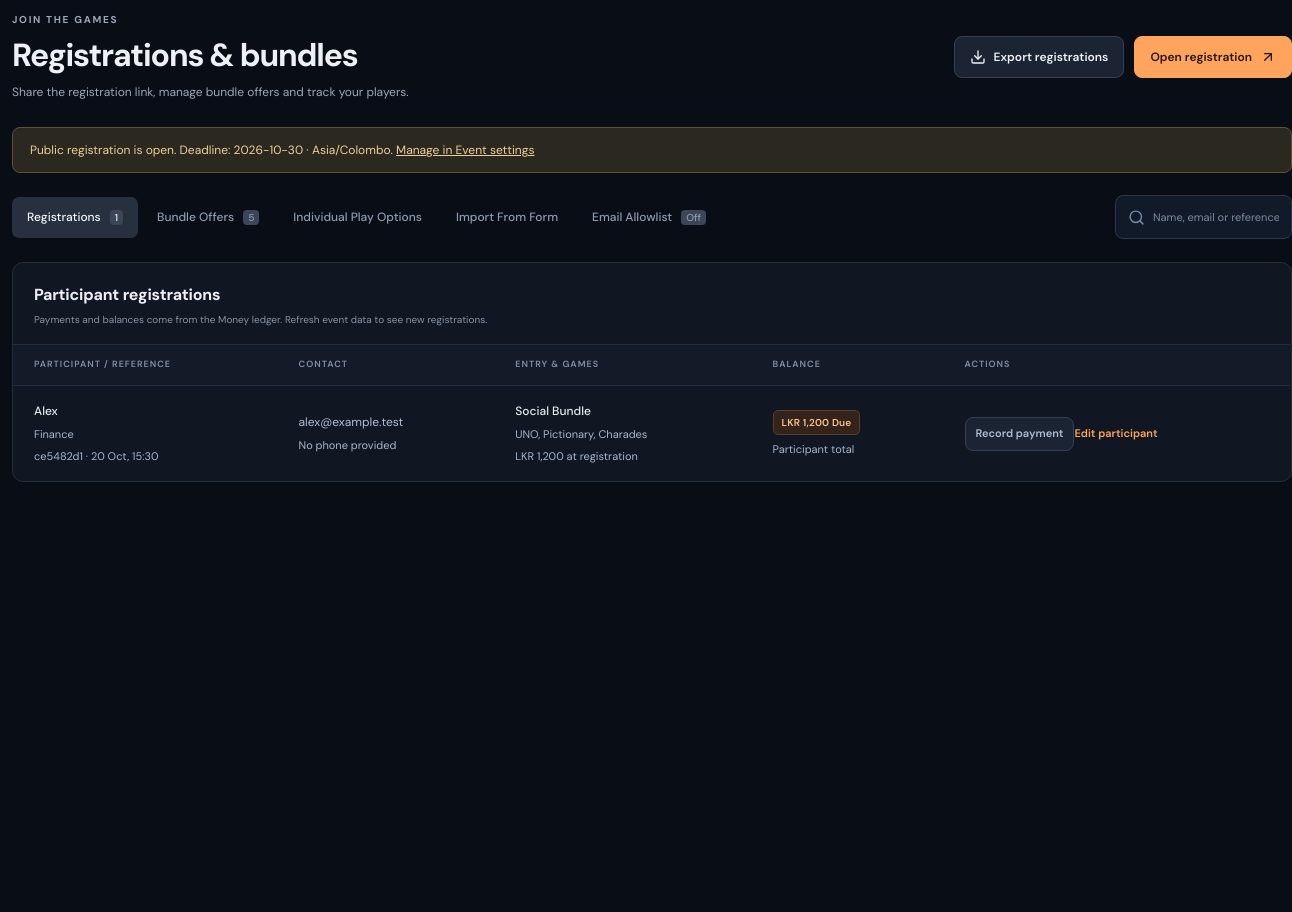
Test: shows organiser registration details, balances and controls
Check: the text "alex@example.test" is shown, box x1=299 y1=414 x2=403 y2=430
Check: the button "Record payment" is shown, box x1=964 y1=416 x2=1074 y2=450
Click the button "Bundle offers 5": (208, 217) x1=142 y1=197 x2=274 y2=238
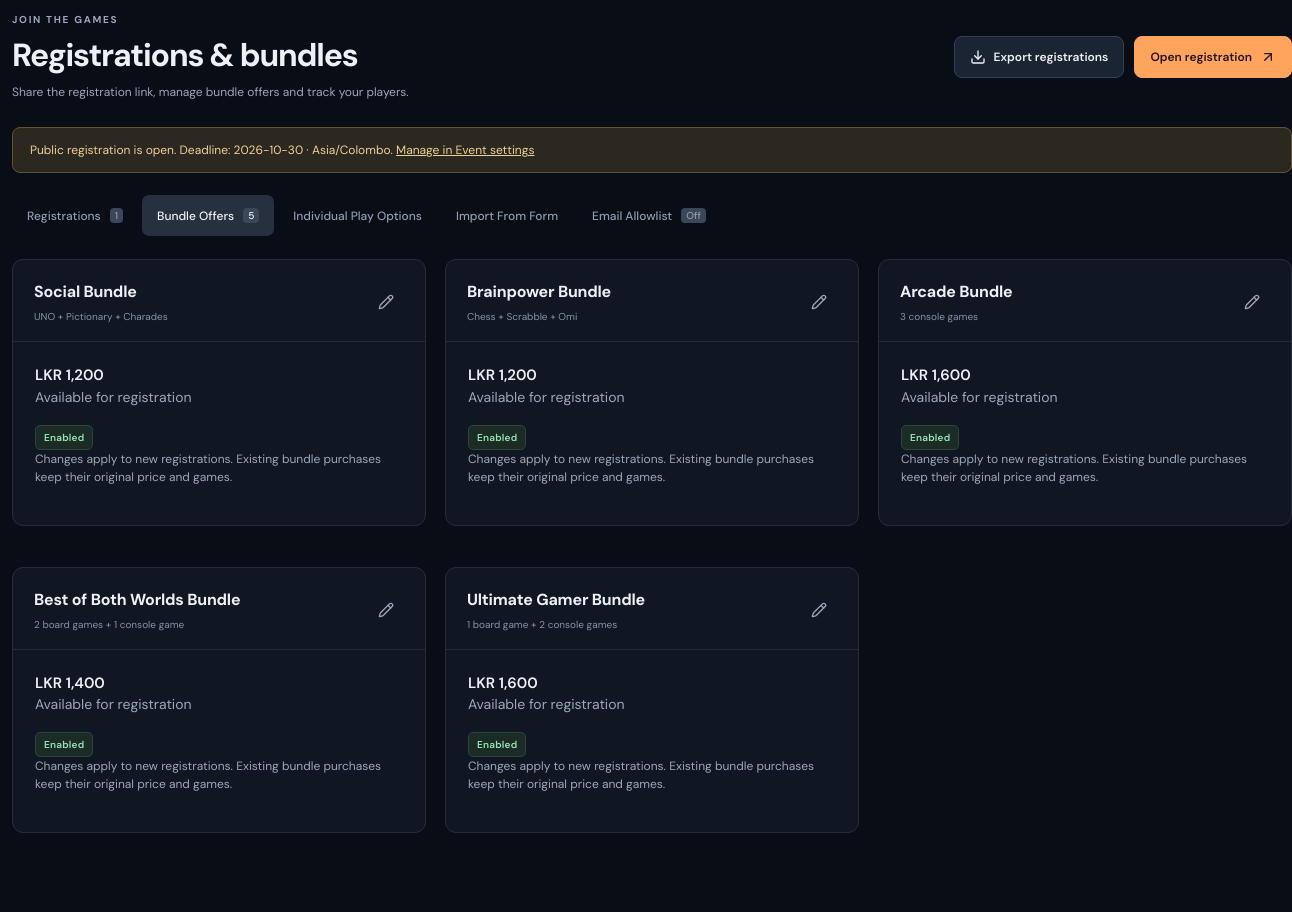
Check: the number of buttons named "Edit" is 5, box x1=368 y1=284 x2=404 y2=320; x1=801 y1=284 x2=837 y2=320; x1=1234 y1=284 x2=1270 y2=320; x1=368 y1=592 x2=404 y2=628; x1=801 y1=592 x2=837 y2=628
